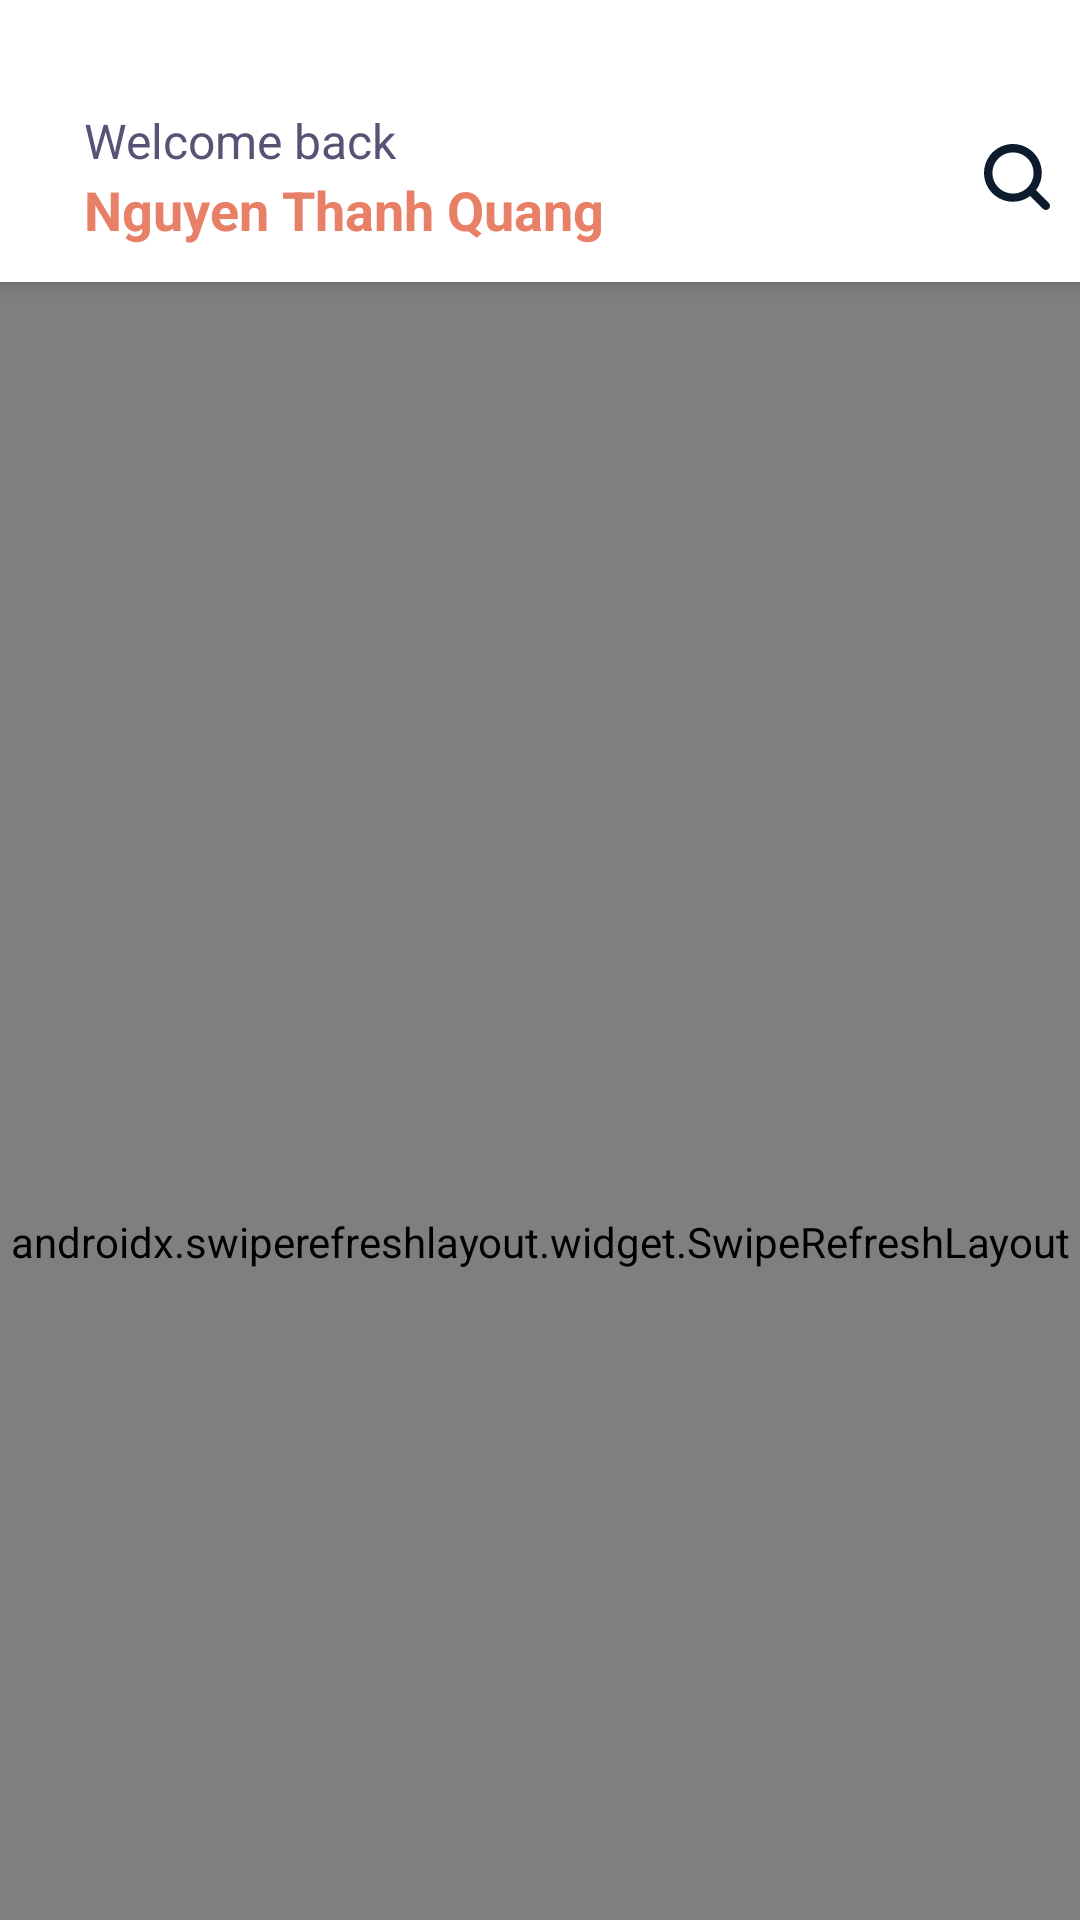

Where icons sit on this 1080×1920 app screen, as (x1, y1, x2, y2):
search: (984, 144, 1050, 210)
